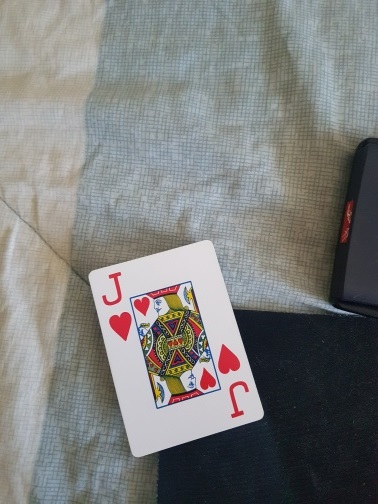jack: (86, 240, 266, 459)
